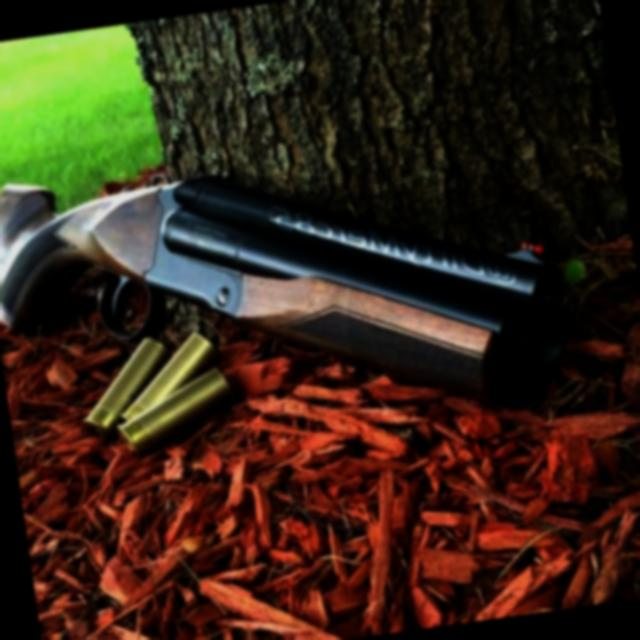shotgun: (0, 66, 622, 504)
